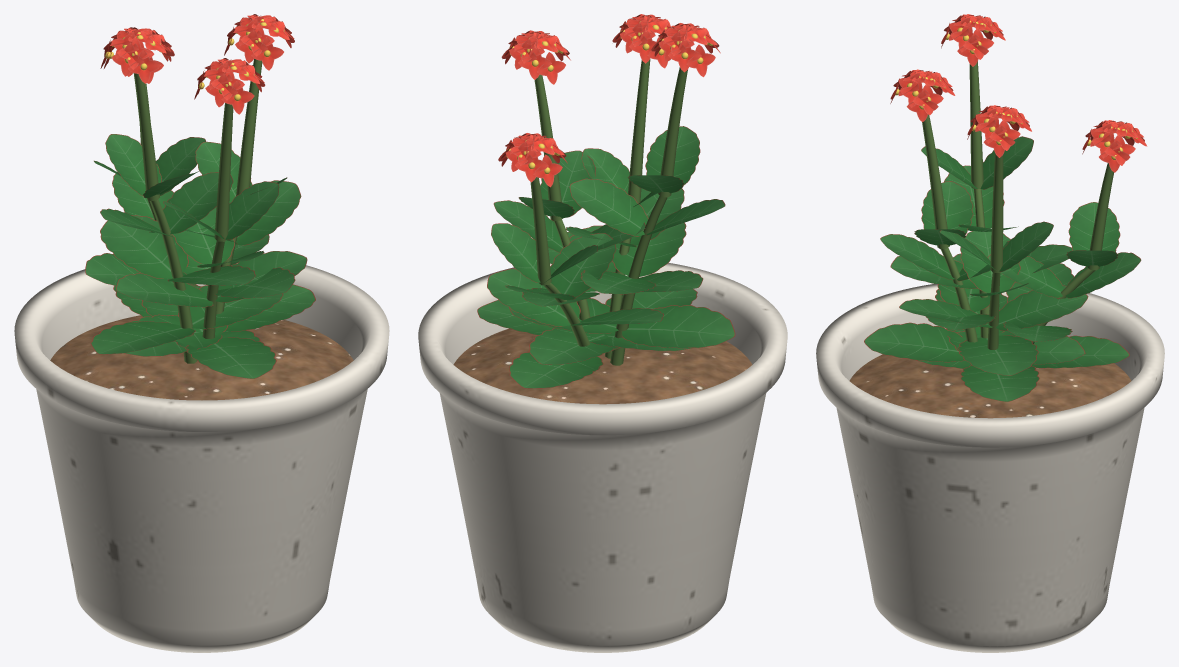
Rendered from kalanchoe.glb.
The picture shows the model from 3 angles, left to right: view 1: azimuth 30°, elevation 25°; view 2: azimuth 150°, elevation 25°; view 3: azimuth 270°, elevation 25°; orthographic projection. The views are drawn at different scales.
Parts seen in each view (by area): view 1: piece-0, piece-1, piece-162, piece-85, piece-122, piece-82, piece-86, piece-125, piece-129, piece-88, piece-7, piece-2 (+12 smaller); view 2: piece-0, piece-1, piece-162, piece-82, piece-86, piece-46, piece-45, piece-42, piece-123, piece-84, piece-89, piece-48 (+15 smaller); view 3: piece-0, piece-1, piece-162, piece-122, piece-83, piece-4, piece-2, piece-128, piece-49, piece-6, piece-42, piece-127 (+16 smaller).
Boxes of the visible parts, x1,y1,x2,y2 form: piece-0: [14, 263, 389, 652]; piece-1: [50, 315, 353, 400]; piece-162: [133, 59, 262, 363]; piece-85: [100, 215, 188, 278]; piece-122: [185, 337, 276, 378]; piece-82: [90, 321, 195, 354]; piece-86: [163, 172, 233, 234]; piece-125: [116, 273, 213, 307]; piece-129: [225, 181, 279, 239]; piece-88: [105, 134, 161, 196]; piece-7: [235, 180, 301, 245]; piece-2: [226, 284, 315, 331]; piece-0: [418, 263, 787, 652]; piece-1: [453, 328, 752, 404]; piece-162: [530, 59, 687, 371]; piece-82: [622, 305, 735, 348]; piece-86: [569, 178, 648, 236]; piece-46: [550, 233, 616, 297]; piece-45: [487, 268, 580, 326]; piece-42: [509, 351, 603, 388]; piece-123: [529, 328, 618, 364]; piece-84: [612, 222, 686, 276]; piece-89: [645, 126, 700, 189]; piece-48: [491, 223, 540, 282]; piece-0: [816, 284, 1164, 652]; piece-1: [849, 354, 1131, 418]; piece-162: [922, 61, 1113, 349]; piece-122: [864, 322, 964, 362]; piece-83: [957, 335, 1038, 375]; piece-4: [996, 285, 1088, 330]; piece-2: [960, 365, 1039, 401]; piece-128: [921, 181, 973, 233]; piece-49: [1068, 202, 1120, 252]; piece-6: [960, 231, 1020, 292]; piece-42: [1031, 335, 1129, 368]; piece-127: [880, 234, 954, 279].
Bounding box in the file's own units: 0.164 × 0.2893 × 0.164.
Materials: 6 (4 with a texture image).
